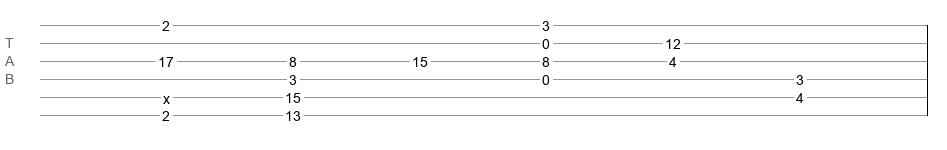0: (542, 72, 550, 82), (542, 36, 550, 46)
12: (665, 36, 681, 46)
13: (285, 108, 301, 118)
15: (285, 90, 301, 100), (412, 54, 428, 64)
17: (158, 54, 174, 64)
2: (162, 108, 170, 118), (162, 18, 170, 28)
3: (289, 72, 297, 82), (542, 18, 550, 28), (796, 72, 804, 82)
4: (669, 54, 677, 64), (796, 90, 804, 100)
8: (289, 54, 297, 64), (542, 54, 550, 64)
x: (163, 91, 170, 99)
